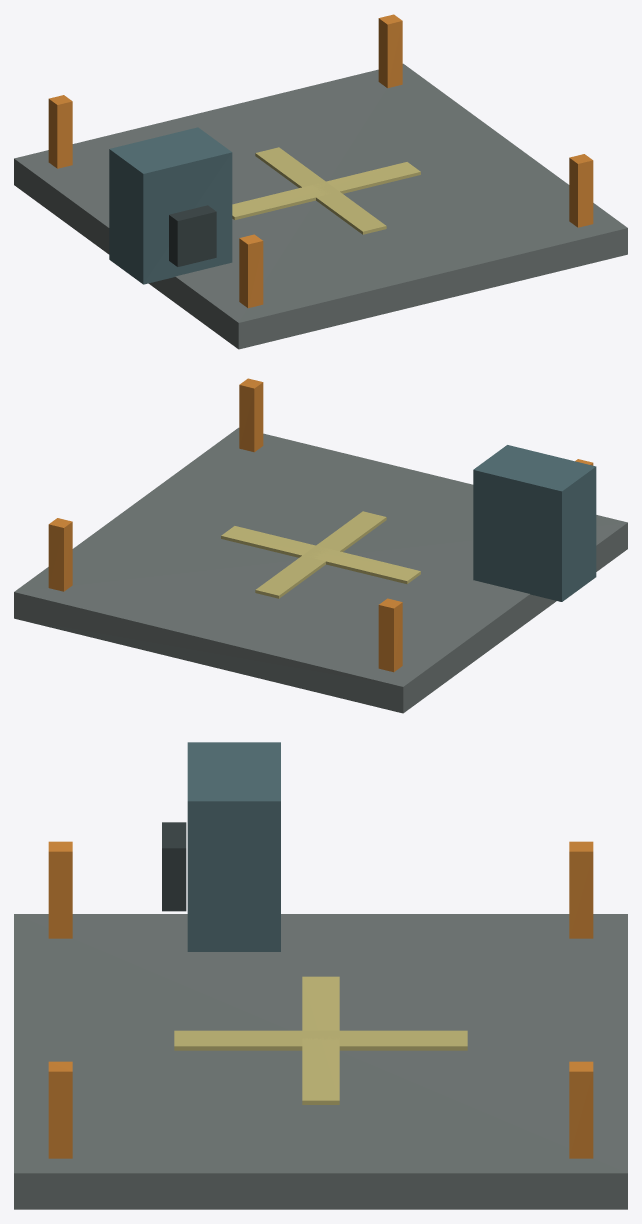
Rendered from Drone-Delivery-Pad.glb.
3 renders of one model, top to bottom at view 1: azimuth 30°, elevation 25°; view 2: azimuth 150°, elevation 25°; view 3: azimuth 270°, elevation 25°, orthographic. The views are drawn at different scales.
Visible parts, largest first — view 1: drone-delivery-pad-static-drone-pad-concrete, drone-delivery-pad-static-drone-pad-transfer-locker, drone-delivery-pad-static-drone-pad-beacon-orange, drone-delivery-pad-static-drone-pad-landing-mark, drone-delivery-pad-static-drone-pad-service-metal; view 2: drone-delivery-pad-static-drone-pad-concrete, drone-delivery-pad-static-drone-pad-transfer-locker, drone-delivery-pad-static-drone-pad-landing-mark, drone-delivery-pad-static-drone-pad-beacon-orange; view 3: drone-delivery-pad-static-drone-pad-concrete, drone-delivery-pad-static-drone-pad-transfer-locker, drone-delivery-pad-static-drone-pad-landing-mark, drone-delivery-pad-static-drone-pad-beacon-orange, drone-delivery-pad-static-drone-pad-service-metal.
Boxes of the visible parts, x1,y1,x2,y2 form: drone-delivery-pad-static-drone-pad-concrete: (14, 63, 627, 349); drone-delivery-pad-static-drone-pad-transfer-locker: (109, 127, 232, 284); drone-delivery-pad-static-drone-pad-beacon-orange: (48, 14, 593, 308); drone-delivery-pad-static-drone-pad-landing-mark: (232, 147, 420, 234); drone-delivery-pad-static-drone-pad-service-metal: (169, 205, 216, 266); drone-delivery-pad-static-drone-pad-concrete: (14, 427, 627, 713); drone-delivery-pad-static-drone-pad-transfer-locker: (473, 445, 596, 601); drone-delivery-pad-static-drone-pad-landing-mark: (221, 511, 420, 598); drone-delivery-pad-static-drone-pad-beacon-orange: (48, 378, 593, 672); drone-delivery-pad-static-drone-pad-concrete: (14, 914, 627, 1209); drone-delivery-pad-static-drone-pad-transfer-locker: (187, 742, 280, 951); drone-delivery-pad-static-drone-pad-landing-mark: (174, 976, 467, 1104); drone-delivery-pad-static-drone-pad-beacon-orange: (48, 841, 593, 1158); drone-delivery-pad-static-drone-pad-service-metal: (162, 822, 186, 911).
Bounding box in the file's own units: 4.97 × 1.54 × 4.6.
